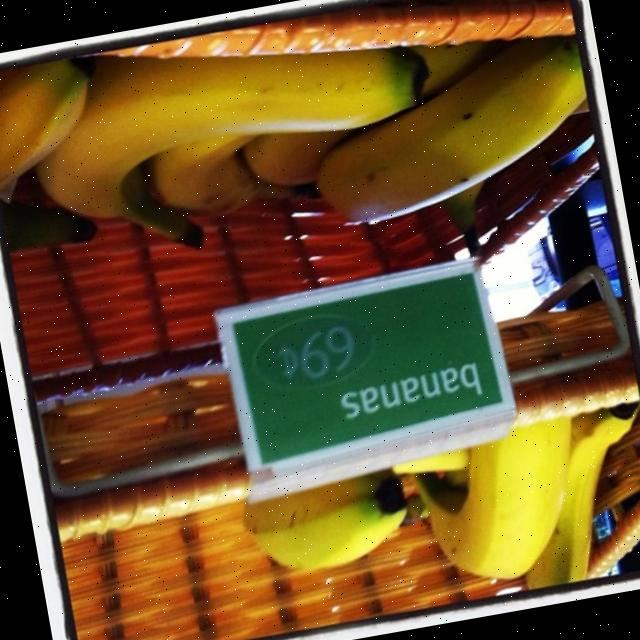banana: (31, 47, 413, 215)
